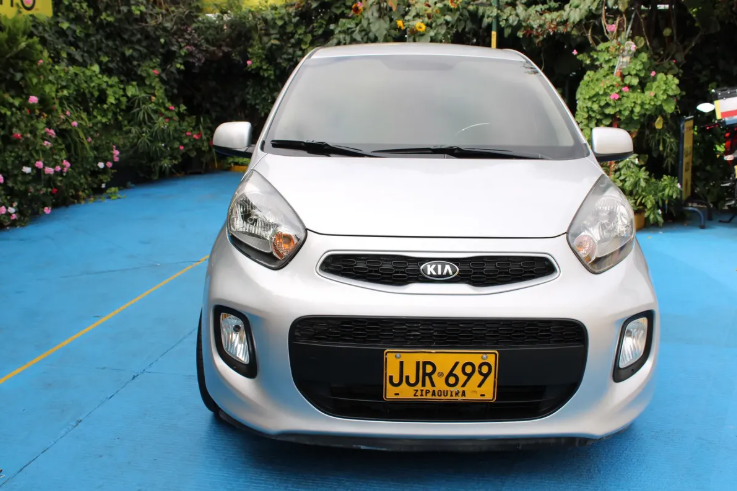placa: (384, 351, 497, 402)
